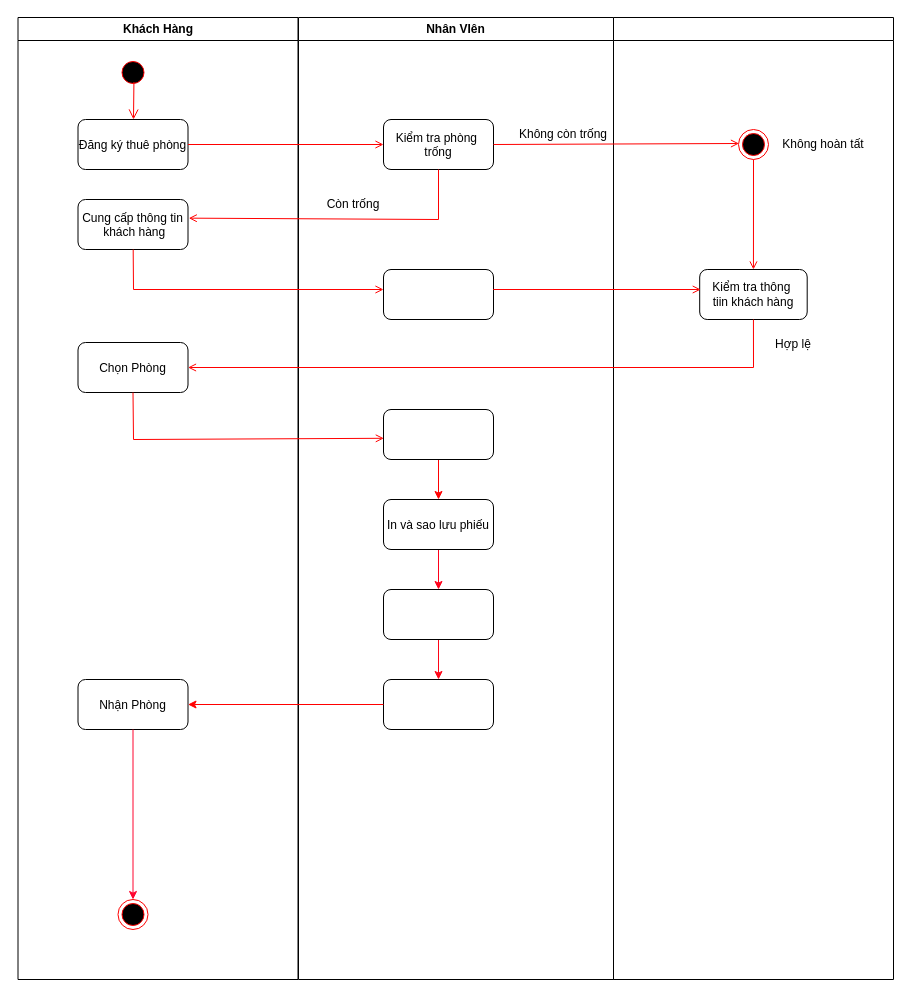
Some shapes in this 911 by 997 pixel diagram are drawn without their labels. The shapes that lost their labels are listed below. From the top down, each one's box as (x1, y1, x2, y2) in pixels, then its label:
(382, 268, 494, 320): Nhập thông tin khách hàng
(382, 408, 494, 460): Lập phiếu thuê
(612, 16, 894, 980): Hệ Thống
(382, 588, 494, 640): Giao phiếu thuê
(382, 678, 494, 730): Giao chìa khóa
